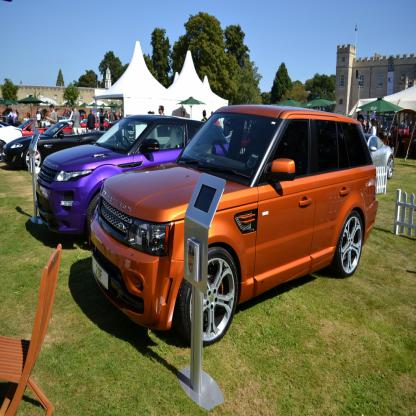Car: (0, 103, 395, 345)
